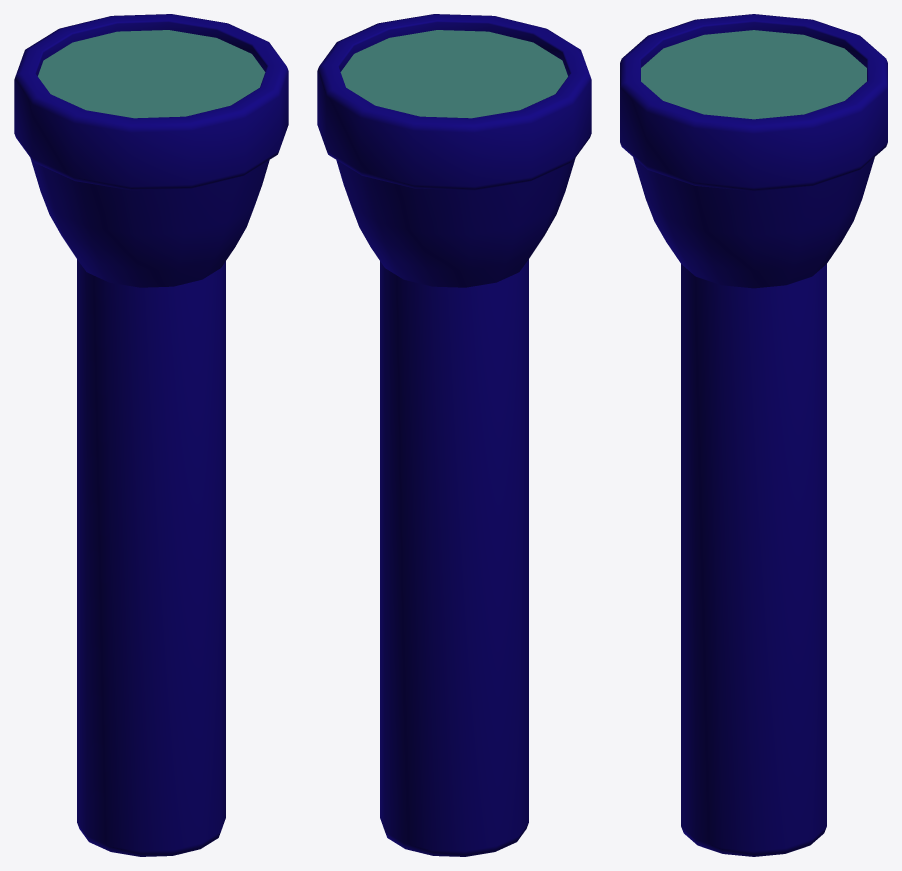
Rendered from SM_Flashlight.fbx.
The picture shows the model from 3 angles, left to right: view 1: azimuth 30°, elevation 25°; view 2: azimuth 150°, elevation 25°; view 3: azimuth 270°, elevation 25°; orthographic projection.
Visible parts, largest first — view 1: SM_Flashlight; view 2: SM_Flashlight; view 3: SM_Flashlight.
Part boxes in pixels (<box>): SM_Flashlight: <box>14,14,288,856</box>; SM_Flashlight: <box>317,14,591,856</box>; SM_Flashlight: <box>620,14,887,856</box>.
Size of the model in its own units: 8.09 by 24.66 by 7.89.
